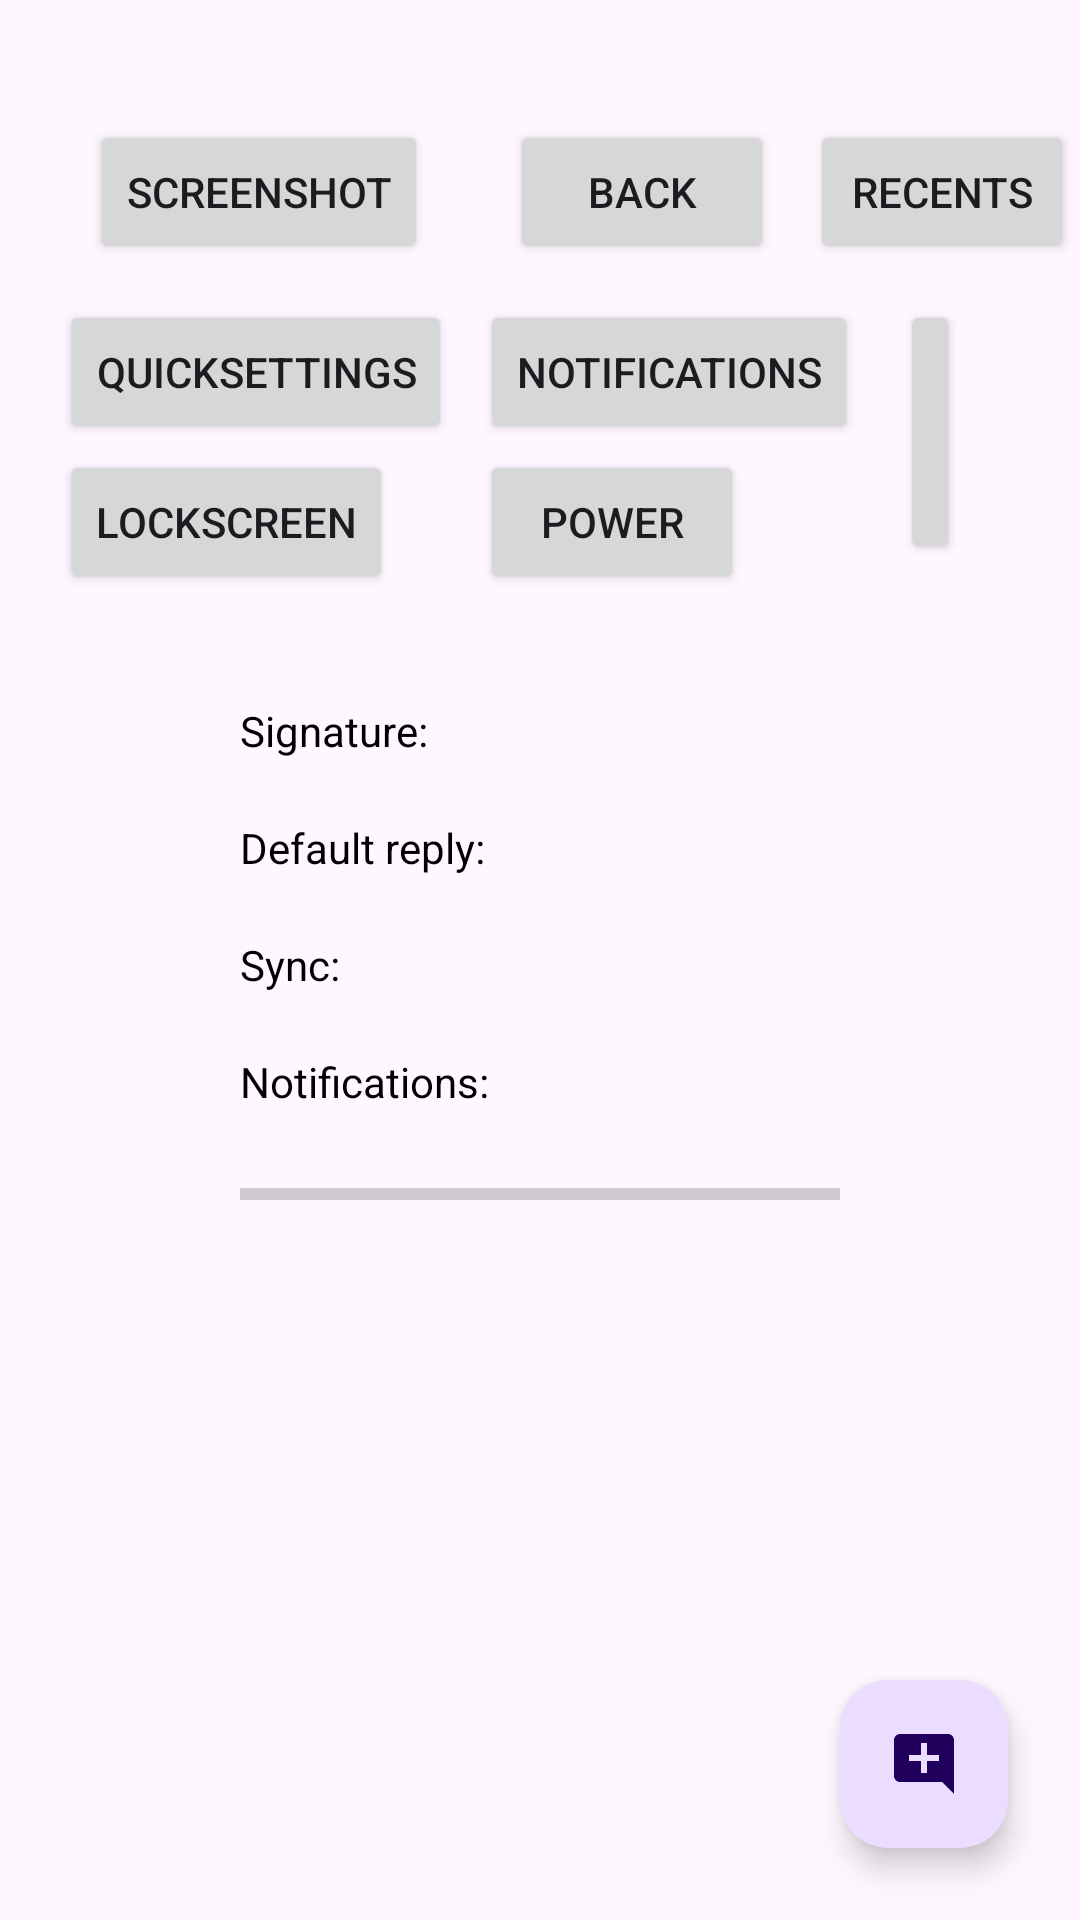

Screen size 1080x1920. Icon name, then its box in pixels as box=[x1, y1, x2, y2]:
add comment: box=[840, 1680, 1008, 1848]
